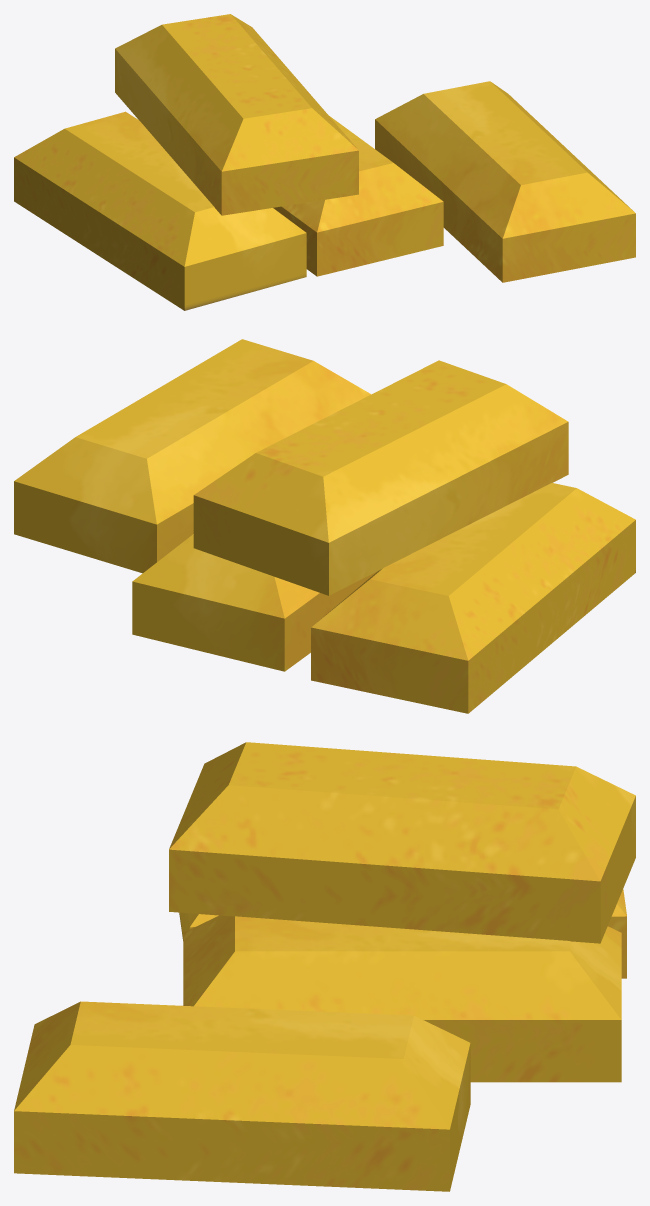
Rendered from SM_goldBar1.fbx.
The picture shows the model from 3 angles, top to bottom: view 1: azimuth 30°, elevation 25°; view 2: azimuth 150°, elevation 25°; view 3: azimuth 270°, elevation 25°; orthographic projection. The views are drawn at different scales.
Visible parts, largest first — view 1: goldBar1; view 2: goldBar1; view 3: goldBar1.
Part boxes in pixels (x1,y1,x2,y2): goldBar1: (14,14,635,310); goldBar1: (14,339,635,713); goldBar1: (14,742,635,1191).
Bounding box in the file's own units: 9.36 × 3.16 × 8.19.
